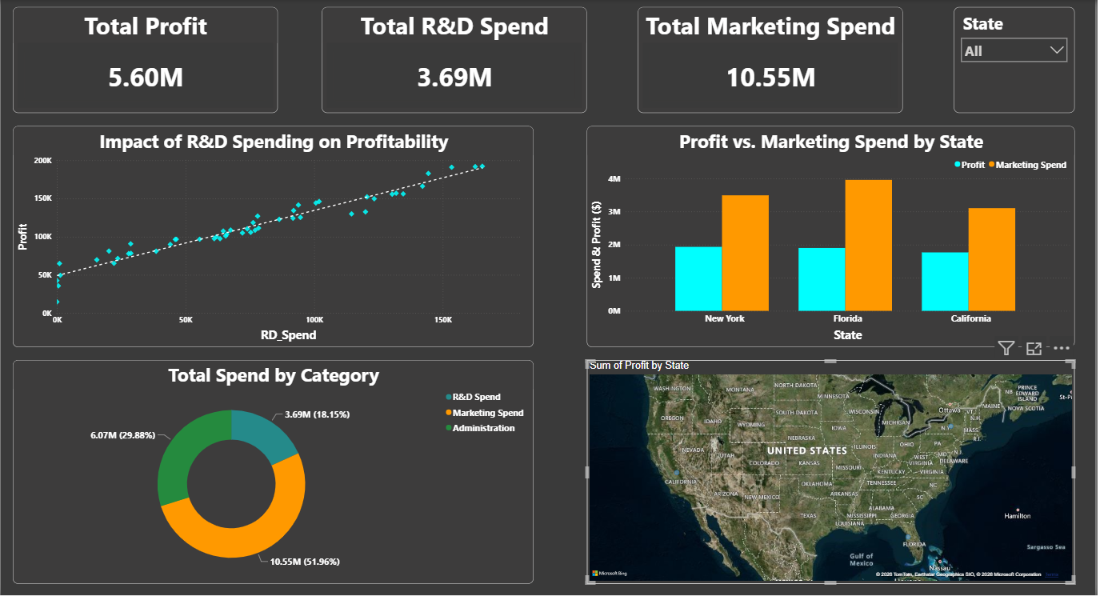

The page's visual inventory and layout, read from the dashboard file:
{"tool":"powerbi","page":{"name":"Page 1","canvas":[2000,1090],"ordinal":0},"visuals":[{"type":"cardVisual","title":"Total Profit","fields":{"Data":["Sum(startup_profit_data.Profit)"]},"box":[21.9,12.8,484,193.6],"z":0},{"type":"cardVisual","title":"Total R&D Spend","fields":{"Data":["Sum(startup_profit_data.RD_Spend)"]},"box":[586.3,12.8,484,193.6],"z":1000},{"type":"cardVisual","title":"Total Marketing Spend","fields":{"Data":["Sum(startup_profit_data.Marketing_Spend)"]},"box":[1163.4,12.8,484,193.6],"z":2000},{"type":"scatterChart","title":"Impact of R&D Spending on Profitability","fields":{"X":["startup_profit_data.RD_Spend"],"Y":["startup_profit_data.Profit"]},"box":[21.9,230.1,951.6,403.6],"z":3000},{"type":"clusteredColumnChart","title":"Profit vs. Marketing Spend by State","fields":{"Category":["startup_profit_data.State"],"Y":["Sum(startup_profit_data.Profit)","Sum(startup_profit_data.Marketing_Spend)"]},"box":[1070.3,230.1,891.3,403.6],"z":4000},{"type":"slicer","fields":{"Values":["startup_profit_data.State"]},"box":[1740.6,12.8,221,193.6],"z":5000},{"type":"donutChart","title":"Total Spend by Category","fields":{"Y":["Sum(startup_profit_data.RD_Spend)","Sum(startup_profit_data.Marketing_Spend)","Sum(startup_profit_data.Administration)"]},"box":[21.9,657.5,951.6,409.1],"z":6000},{"type":"map","fields":{"Category":["startup_profit_data.State"]},"box":[1070.3,657.5,891.3,409.1],"z":6001}]}

Visuals, with their boxes in screenshot pixels (x1, y1, x2, y2), scaled from the page's 2000x1090 canvas onto the 1098x596 screenshot:
"Total Profit" cardVisual: 12/7/278/113
"Total R&D Spend" cardVisual: 322/7/588/113
"Total Marketing Spend" cardVisual: 639/7/904/113
"Impact of R&D Spending on Profitability" scatterChart: 12/126/534/347
"Profit vs. Marketing Spend by State" clusteredColumnChart: 588/126/1077/347
slicer - startup_profit_data.State: 956/7/1077/113
"Total Spend by Category" donutChart: 12/360/534/583
map - startup_profit_data.State: 588/360/1077/583
